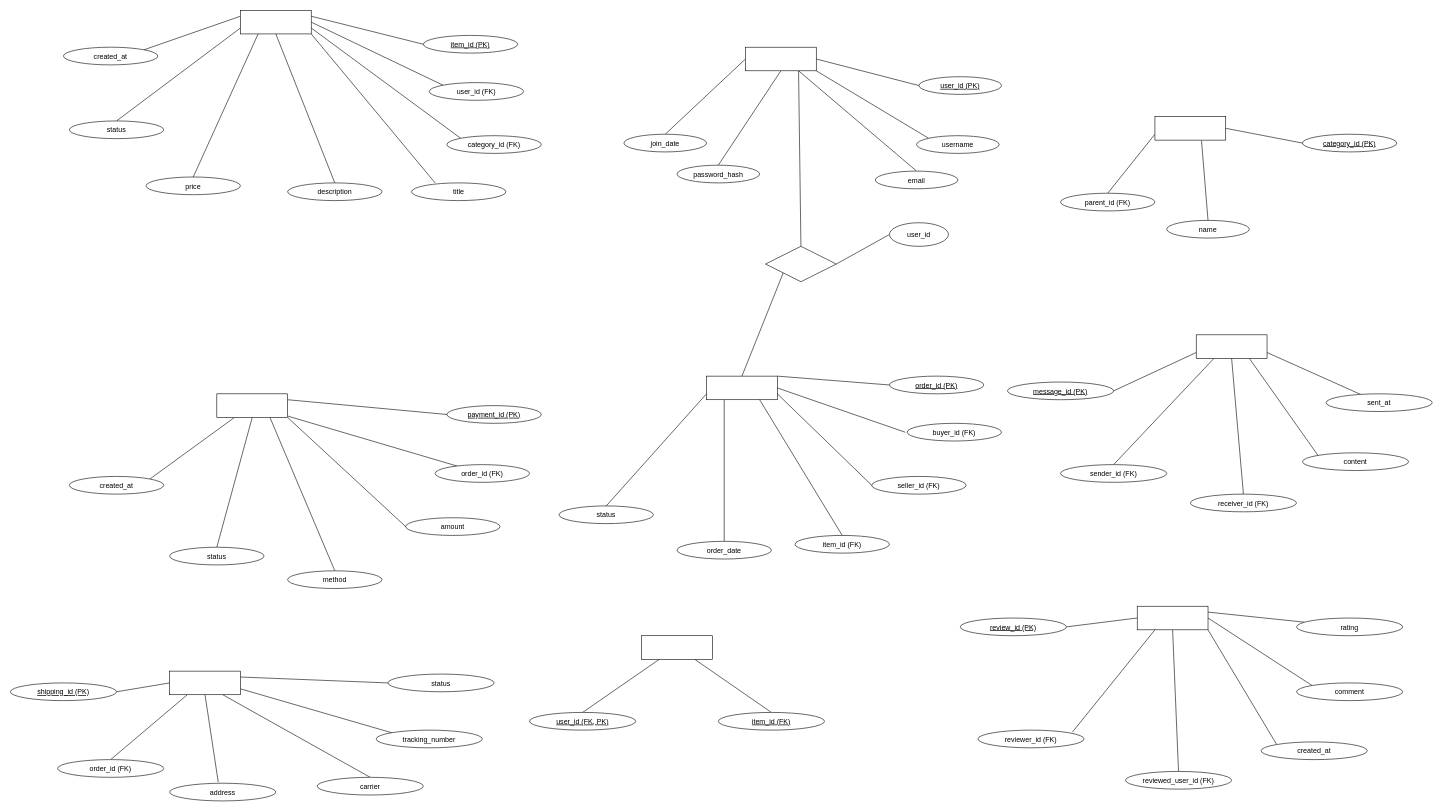
Image size: 1443x811. Some labels were removed from this diagram. Here are the shapes that lost their labels. From the top down, the centre of each, then its label:
pixel 275 22: Items
pixel 780 59: Users
pixel 1190 128: Categories
pixel 800 264: order
pixel 1231 346: Messages
pixel 252 405: Payments
pixel 741 388: Orders
pixel 1172 618: Reviews
pixel 676 647: Favorites
pixel 204 683: Shipping
